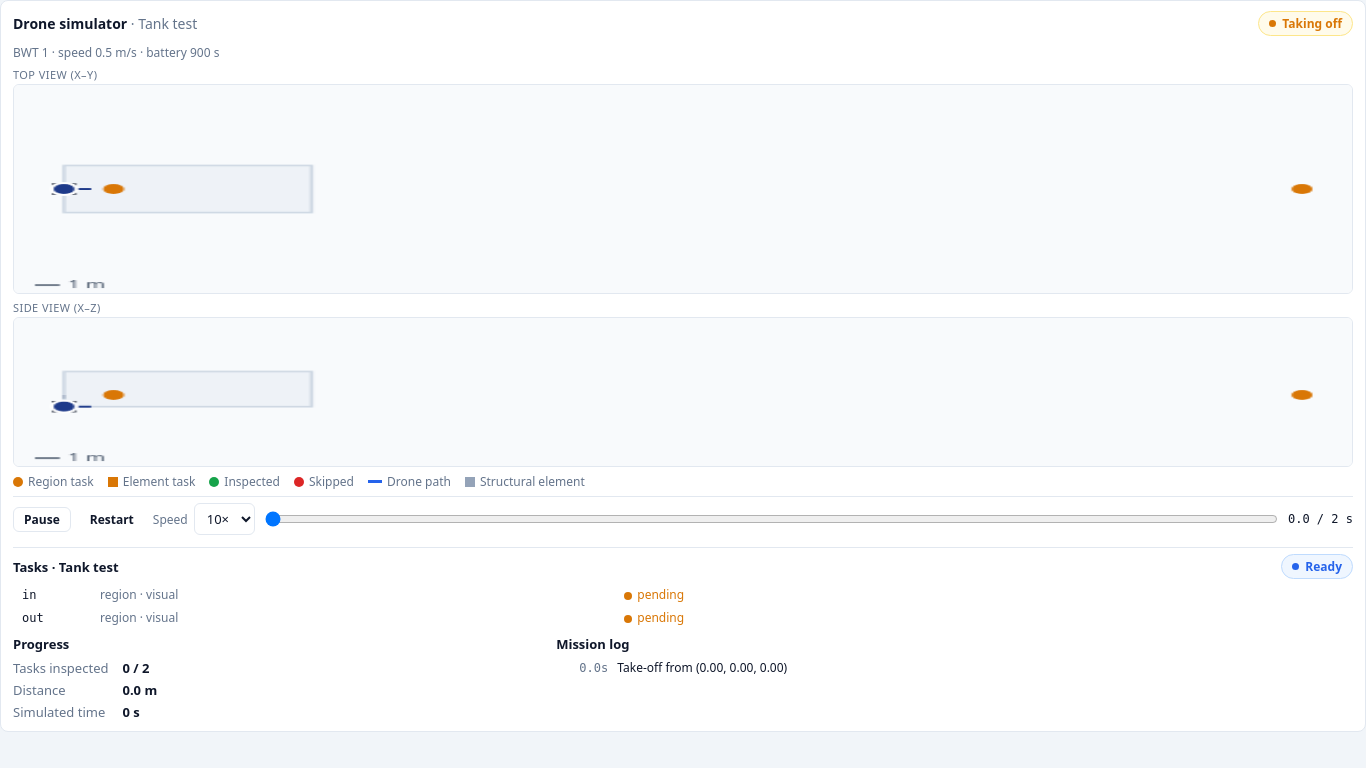
Test: SimulatorPanel › should not claim the drone landed when the flight so far ends in the air
Set the slider named "Mission time" to "1000" at [771, 519], box [265,511,1278,527]
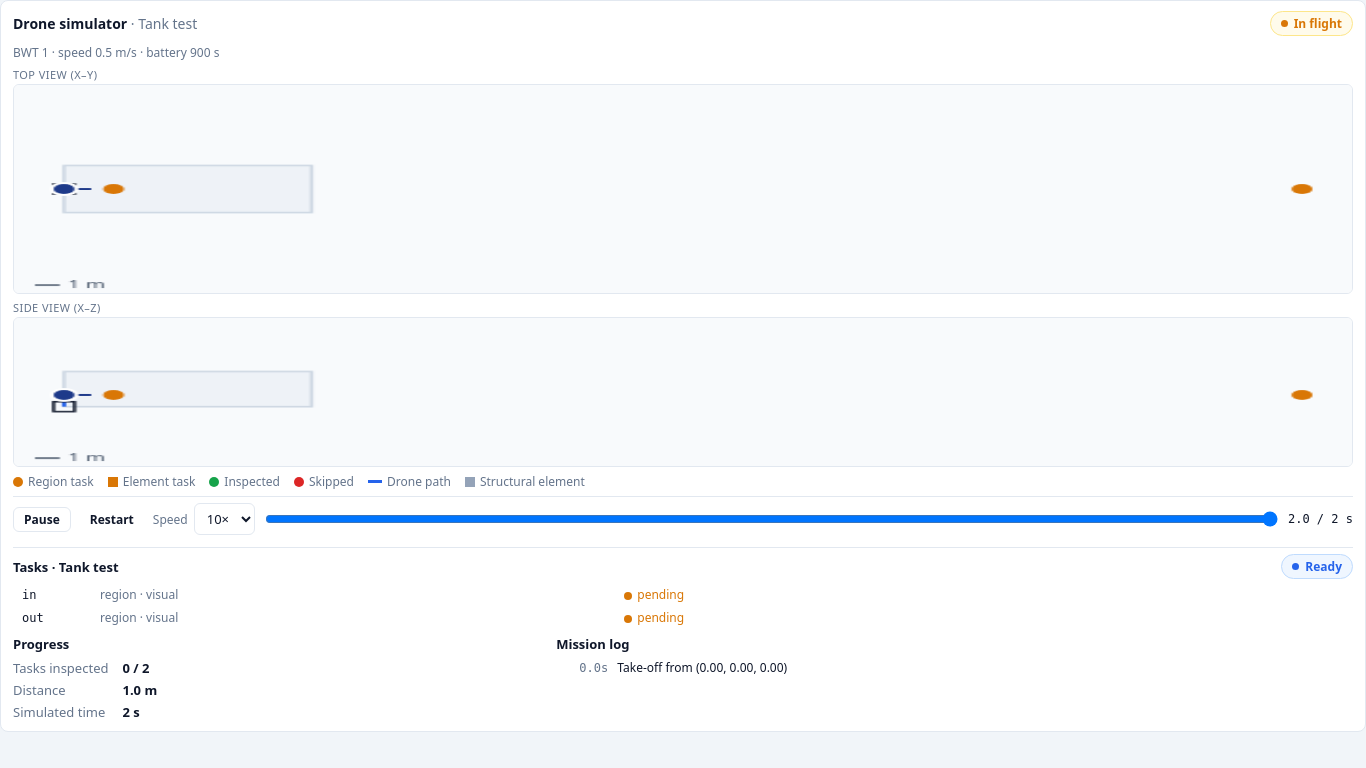
Check: the text with test id "flight-phase" reads "In flight", box [1294,15,1342,32]
